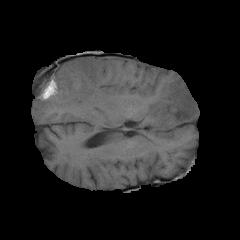glioma: (36, 57, 197, 128)
